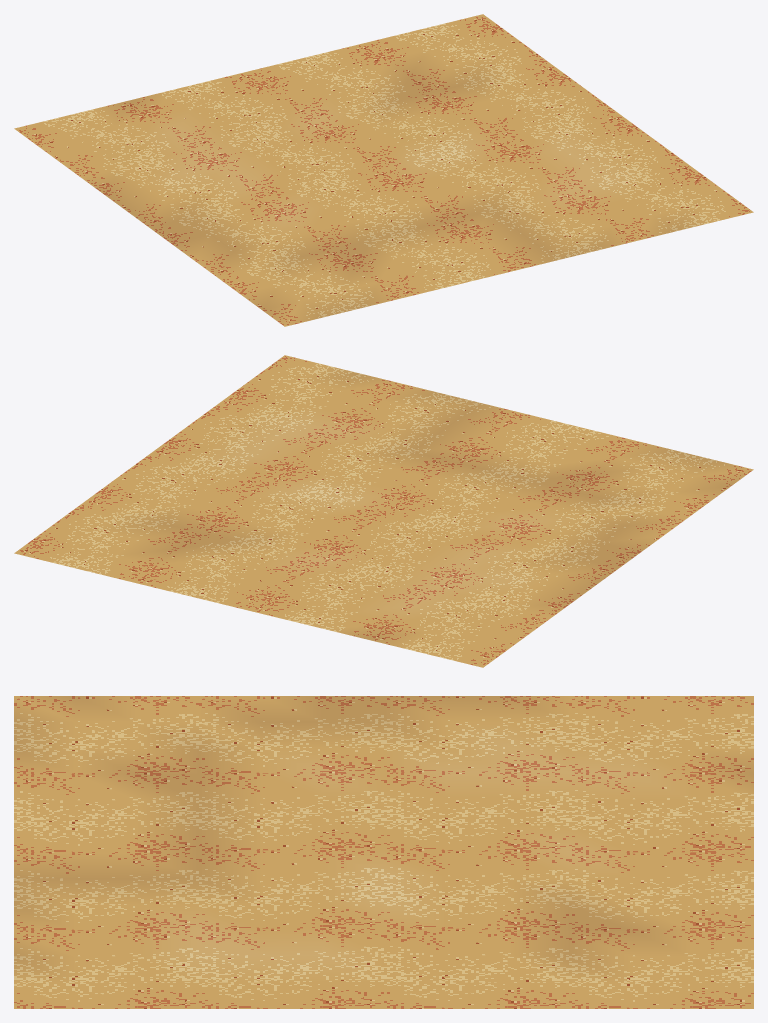
File: wland.ground__desert.glb
The picture shows the model from 3 angles, top to bottom: view 1: azimuth 30°, elevation 25°; view 2: azimuth 150°, elevation 25°; view 3: azimuth 270°, elevation 25°; orthographic projection. The views are drawn at different scales.
Visible parts, largest first — view 1: kit_shell_ground; view 2: kit_shell_ground; view 3: kit_shell_ground.
Part boxes in pixels (<box>): kit_shell_ground: <box>14,14,753,326</box>; kit_shell_ground: <box>14,355,753,667</box>; kit_shell_ground: <box>14,696,753,1008</box>.
Bounding box in the file's own units: 24 × 0.1265 × 24.
Materials: 1 (1 with a texture image).
